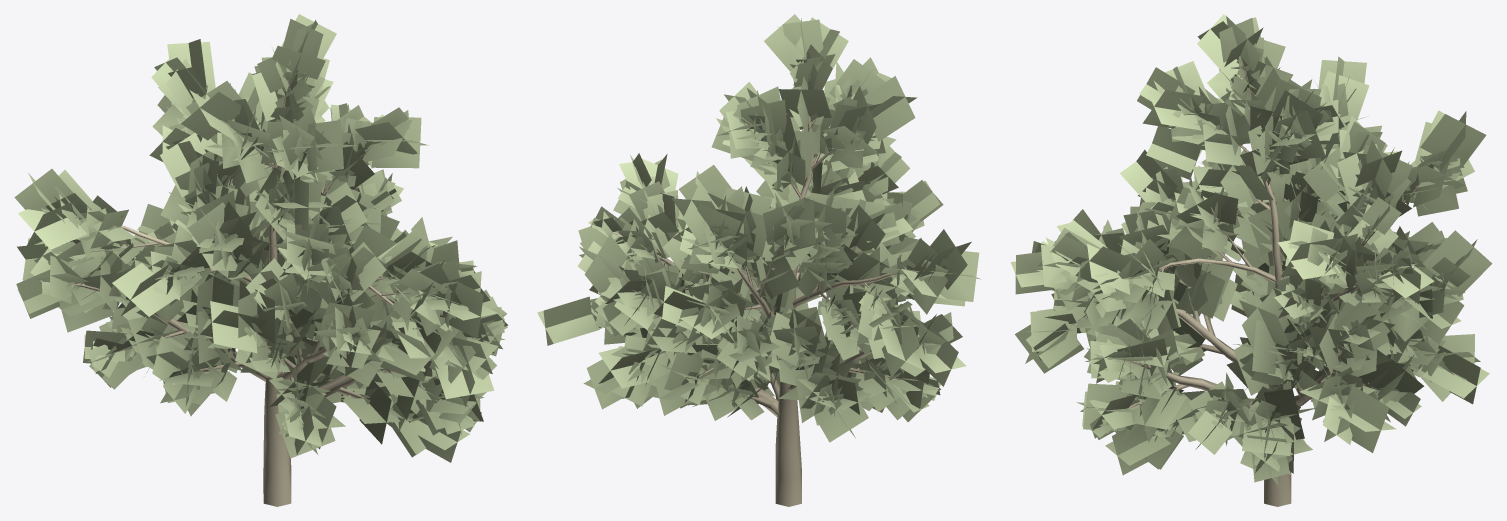
File: konara.glb
3 renders of one model, left to right at view 1: azimuth 30°, elevation 25°; view 2: azimuth 150°, elevation 25°; view 3: azimuth 270°, elevation 25°, orthographic. The views are drawn at different scales.
Size of the model in its own units: 14.22 by 15 by 13.51.
